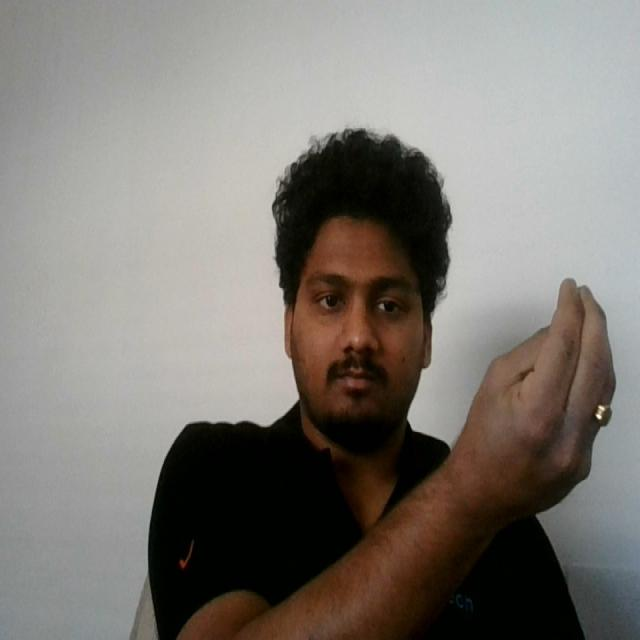Please: (446, 270, 623, 544)
